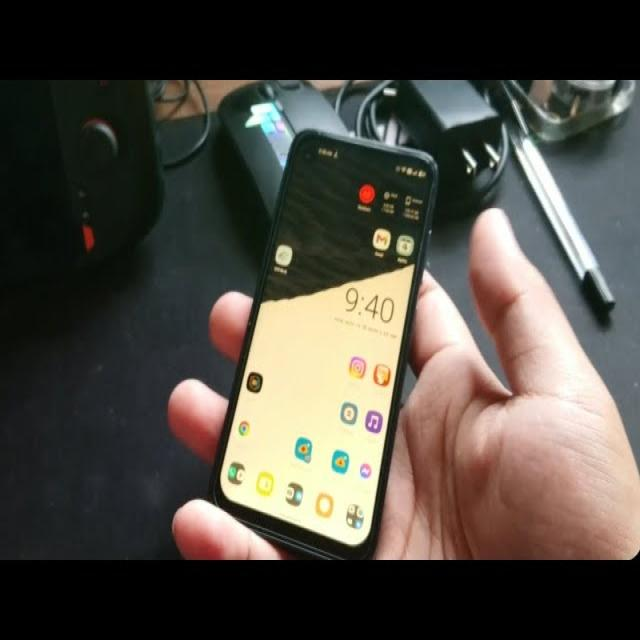mobile_phone: (192, 122, 453, 589)
